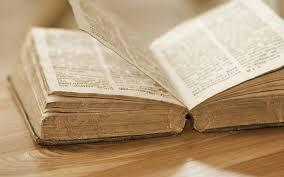Paper: (3, 0, 284, 154)
